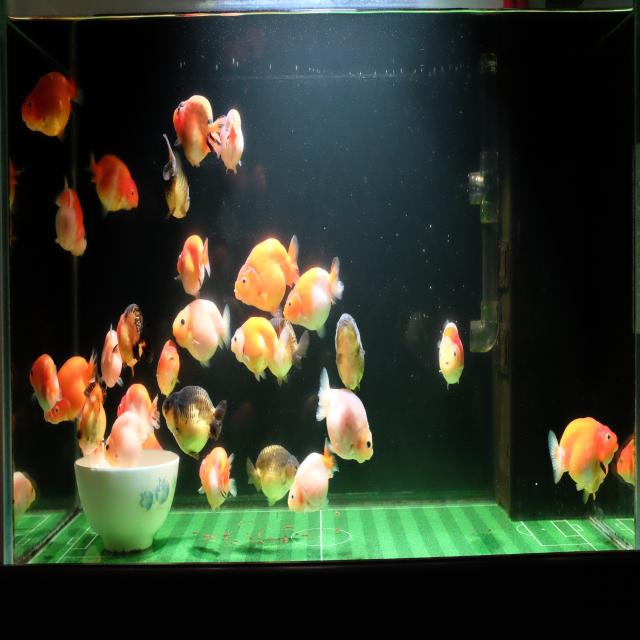Goldfish: (315, 362, 375, 467), (281, 252, 346, 342), (233, 234, 301, 320), (546, 416, 619, 492), (161, 383, 229, 464), (20, 60, 83, 145), (172, 297, 232, 373), (44, 349, 100, 429), (286, 436, 340, 518), (172, 90, 224, 170), (244, 442, 304, 509), (230, 316, 288, 385), (86, 148, 140, 221), (102, 399, 155, 469), (157, 130, 193, 226), (112, 300, 154, 378), (52, 174, 89, 262), (196, 443, 238, 516), (333, 309, 367, 396), (266, 317, 309, 382), (117, 382, 161, 441), (74, 395, 108, 471), (435, 315, 467, 394), (174, 232, 211, 300), (28, 350, 63, 420), (218, 105, 245, 177), (98, 322, 125, 393), (616, 431, 636, 505)
